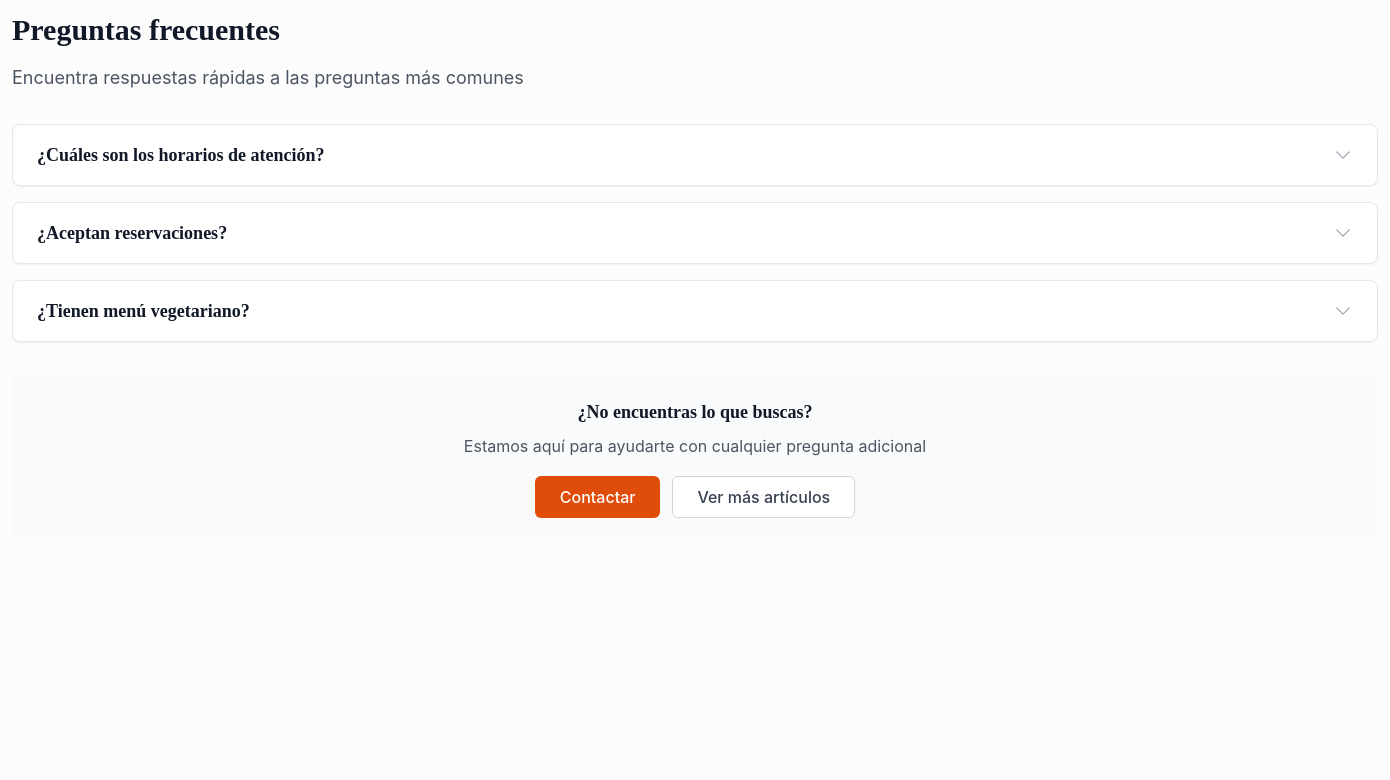
FAQ Component › toggles FAQ items when clicked
The width and height of the screenshot is (1390, 780).
Expected: the text "Atendemos de lunes a viernes de 9:00 a 18:00 horas." is not shown
Note: Click to open
Click the button "¿Cuáles son los horarios de atención?" at (181, 155), box [13,125,1377,185]
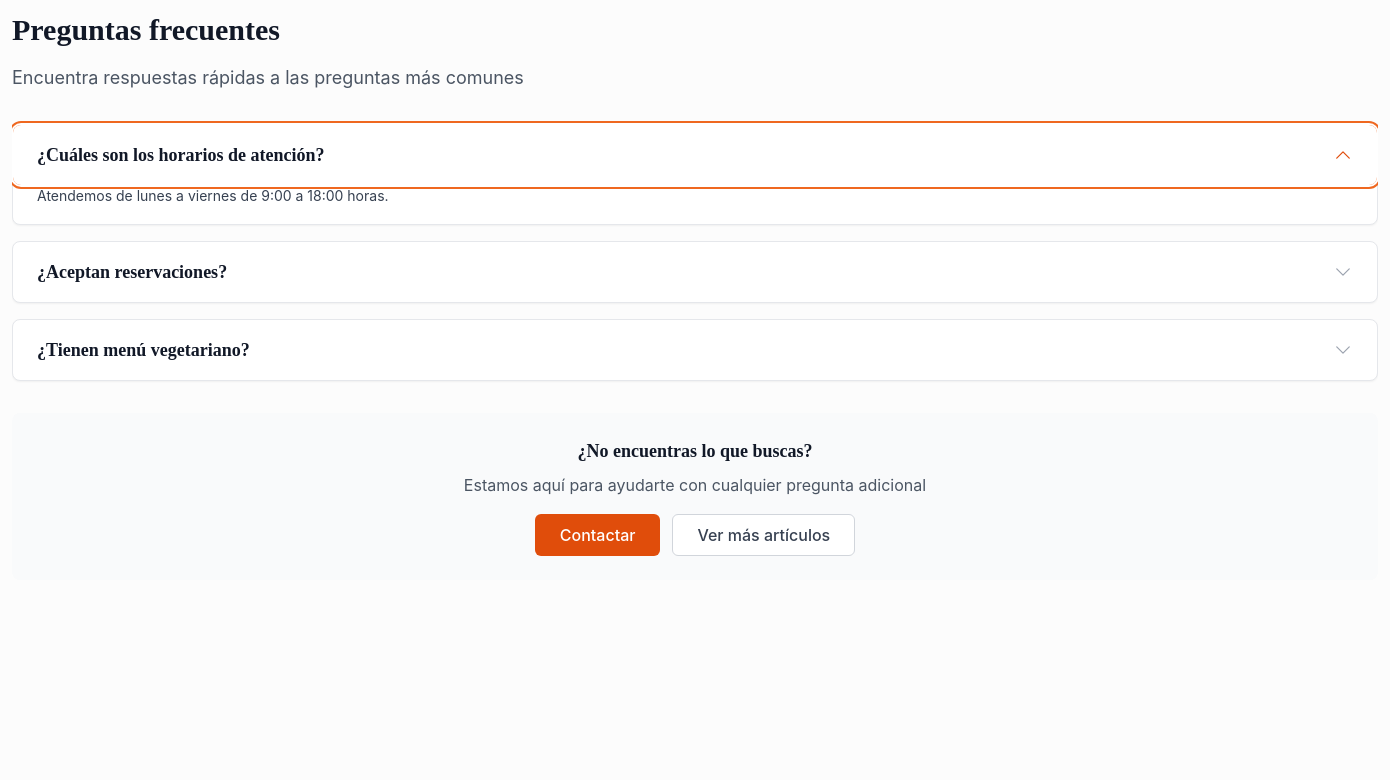
Expected: the button "¿Cuáles son los horarios de atención?" is expanded
Expected: the text "Atendemos de lunes a viernes de 9:00 a 18:00 horas." is shown, [37,187,389,204]
Note: Click to close
Click the button "¿Cuáles son los horarios de atención?" at (181, 155), box [13,125,1377,185]
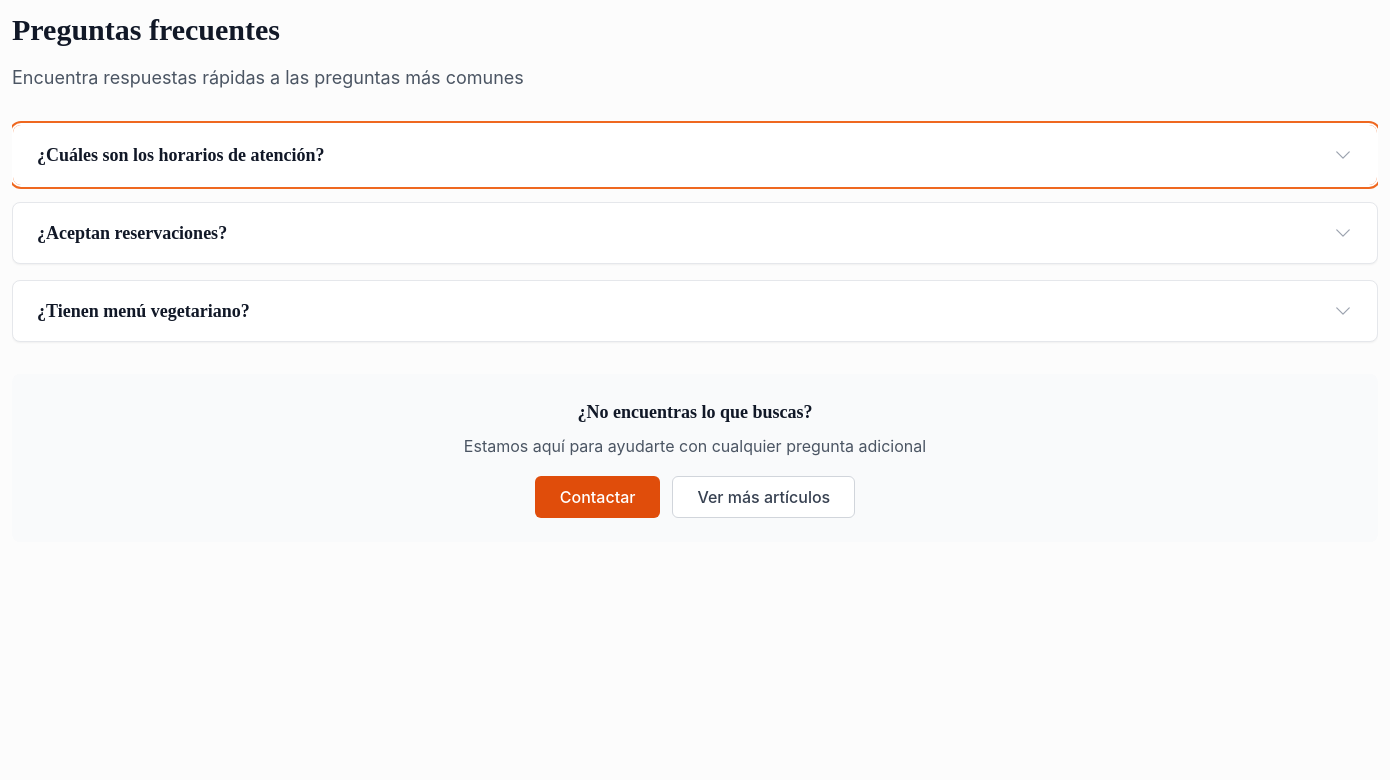
Expected: the button "¿Cuáles son los horarios de atención?" is collapsed, [13,125,1377,185]
Expected: the text "Atendemos de lunes a viernes de 9:00 a 18:00 horas." is gone
